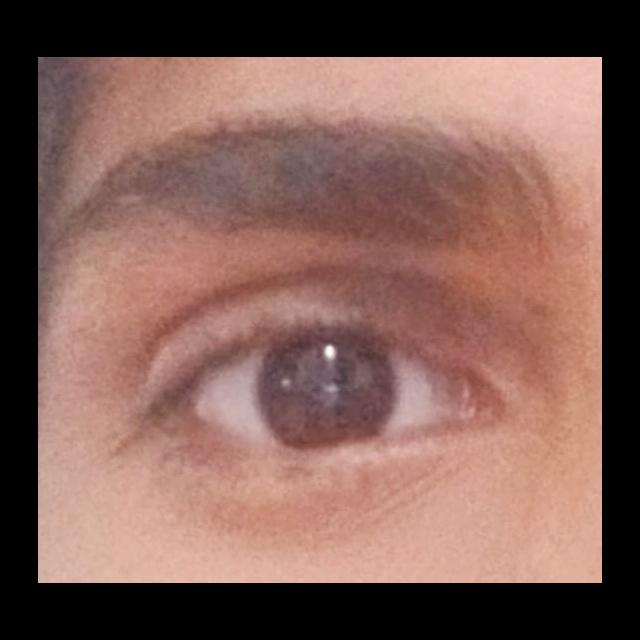eye: (193, 334, 465, 453)
iris: (258, 342, 396, 445)
